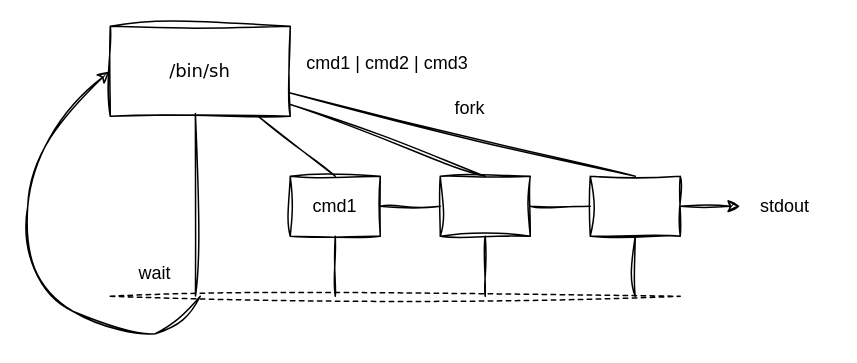
Image size: 857x363. Some labels were removed from this diagram. Each missing label, with the centre of its shape:
cmd2: point 484,205
cmd3: point 634,205
